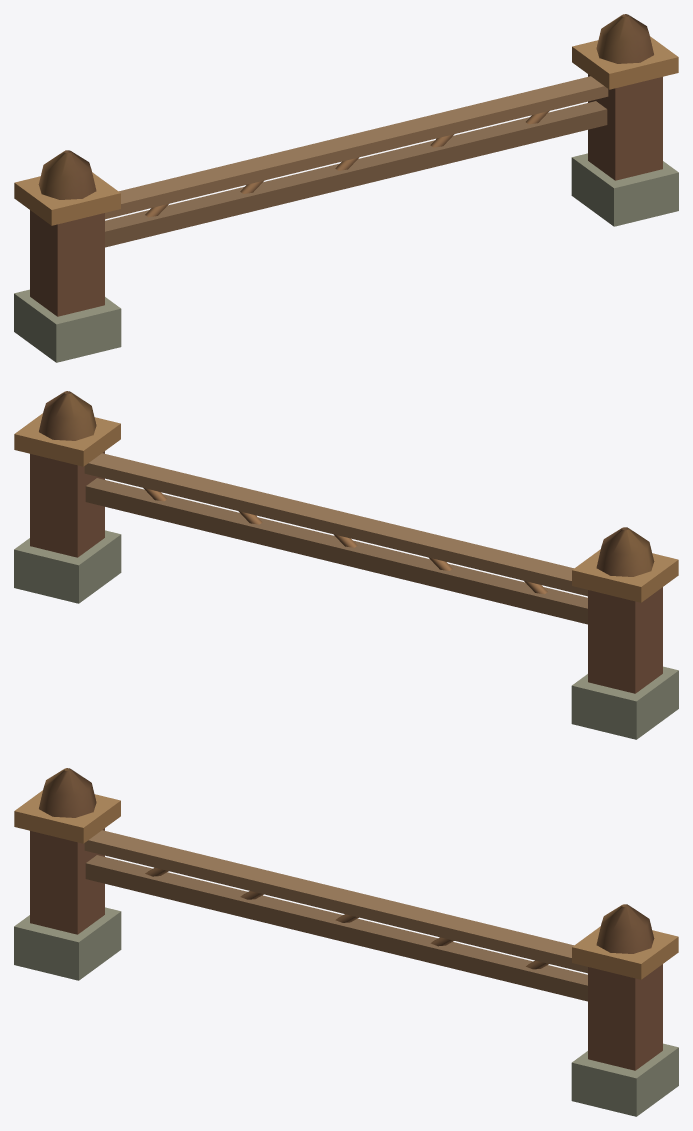
Rendered from quay_rail.glb.
3 views of the same model, one above another, from view 1: azimuth 30°, elevation 25°; view 2: azimuth 150°, elevation 25°; view 3: azimuth 330°, elevation 25° (orthographic).
Visible parts, largest first — view 1: quay_rail; view 2: quay_rail; view 3: quay_rail.
Part boxes in pixels (left/top/right/bottom): quay_rail: left=14, top=14, right=678, bottom=362; quay_rail: left=14, top=391, right=678, bottom=739; quay_rail: left=14, top=768, right=678, bottom=1116.
Size of the model in its own units: 2.9 by 0.83 by 0.34.
